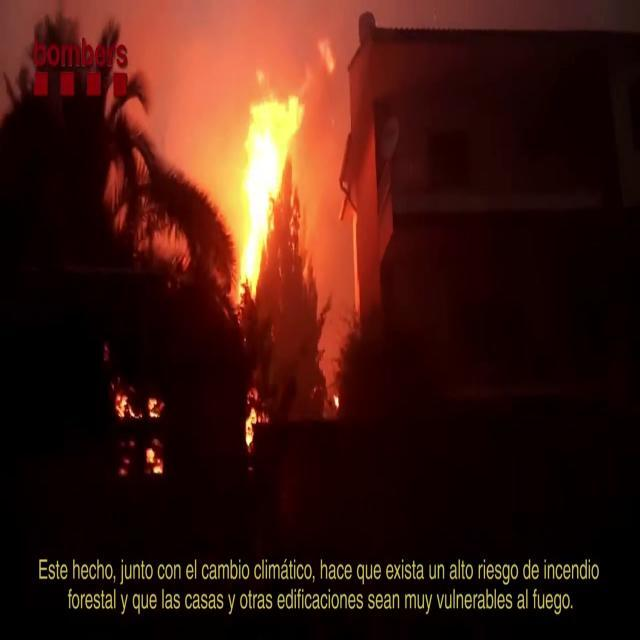Fire: (226, 80, 304, 302), (112, 382, 166, 428), (242, 391, 268, 453)
